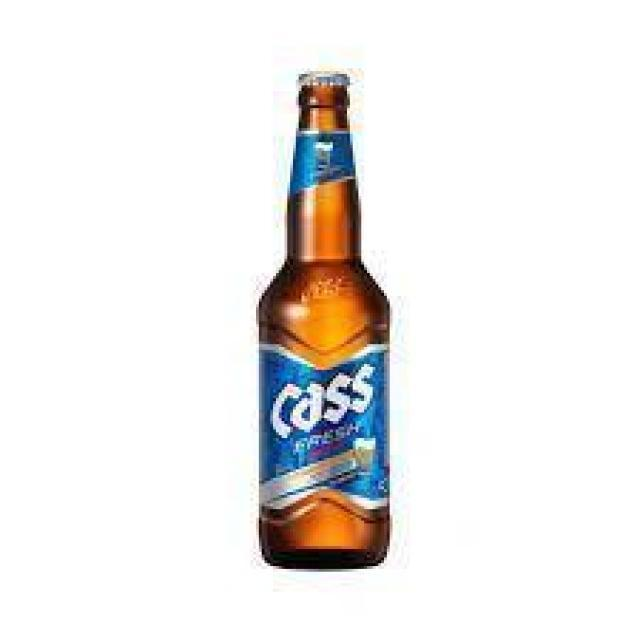beer-bottle: (244, 64, 395, 579)
